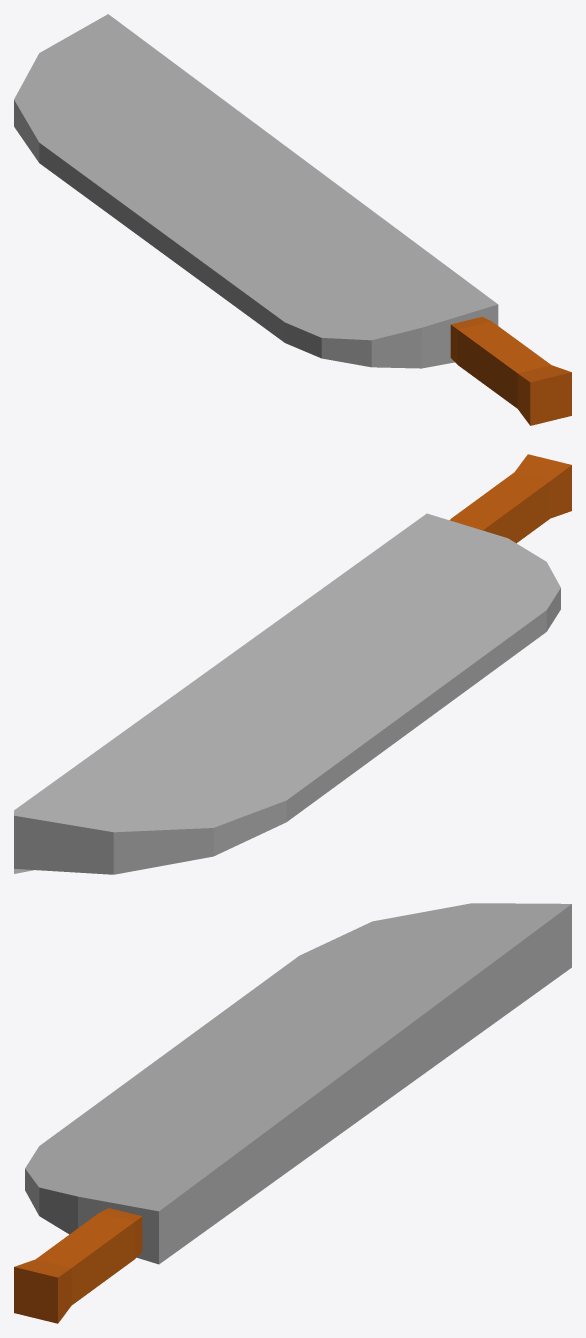
The model's file is Knife.fbx.
The picture shows the model from 3 angles, top to bottom: view 1: azimuth 30°, elevation 25°; view 2: azimuth 150°, elevation 25°; view 3: azimuth 330°, elevation 25°; orthographic projection. The views are drawn at different scales.
Parts seen in each view (by area): view 1: Knife; view 2: Knife; view 3: Knife.
Boxes of the visible parts, x1,y1,x2,y2 form: Knife: [14, 14, 571, 425]; Knife: [14, 454, 571, 874]; Knife: [14, 903, 571, 1323].
Size of the model in its own units: 0.1084 by 0.0381 by 0.5459.
